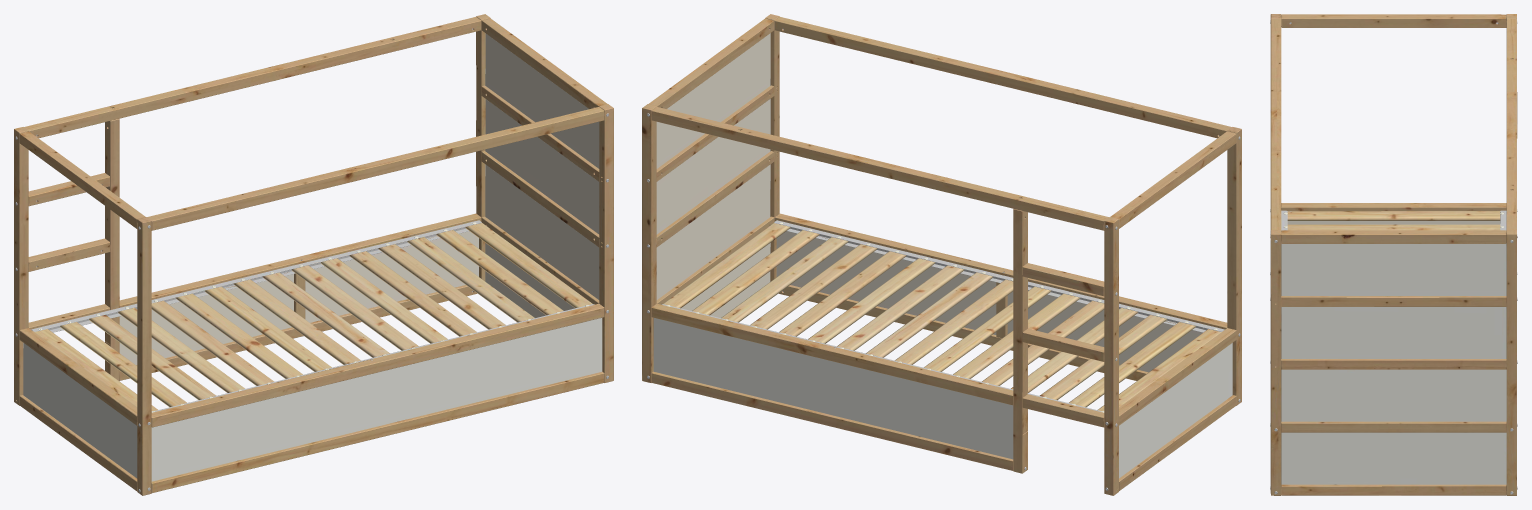
File: kura_dwustronne_ozko_80253809.glb
3 renders of one model, left to right at view 1: azimuth 30°, elevation 25°; view 2: azimuth 150°, elevation 25°; view 3: azimuth 270°, elevation 25°, orthographic. The views are drawn at different scales.
Parts seen in each view (by area): view 1: kura_dwustronne_ozko_80253809; view 2: kura_dwustronne_ozko_80253809; view 3: kura_dwustronne_ozko_80253809.
Boxes of the visible parts, x1,y1,x2,y2 form: kura_dwustronne_ozko_80253809: (14, 14, 613, 495); kura_dwustronne_ozko_80253809: (642, 14, 1241, 495); kura_dwustronne_ozko_80253809: (1270, 14, 1517, 495).
Size of the model in its own units: 2.09 by 1.15 by 0.9893.
Materials: 1 (1 with a texture image).
